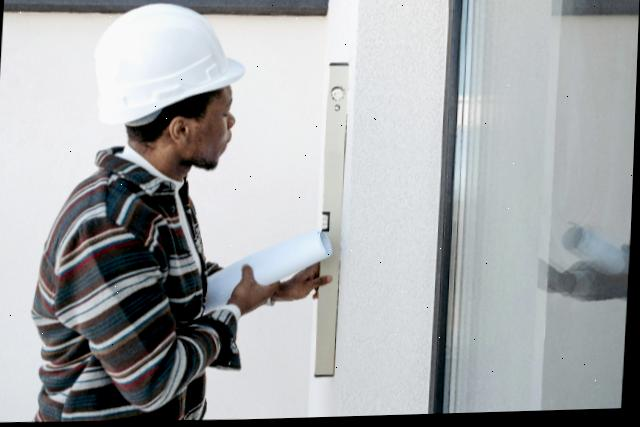helmet: (74, 0, 247, 122)
